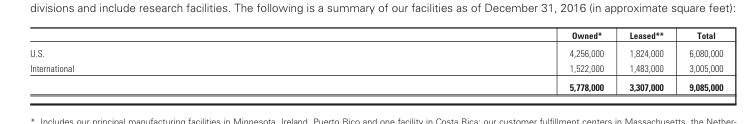table: (29, 29, 722, 92)
table column: (321, 29, 615, 92), (29, 29, 321, 92), (615, 29, 675, 92), (675, 29, 722, 92)
table column header: (29, 29, 722, 43)
table row: (29, 43, 722, 60), (29, 60, 722, 77), (29, 77, 722, 92), (29, 29, 722, 43)
